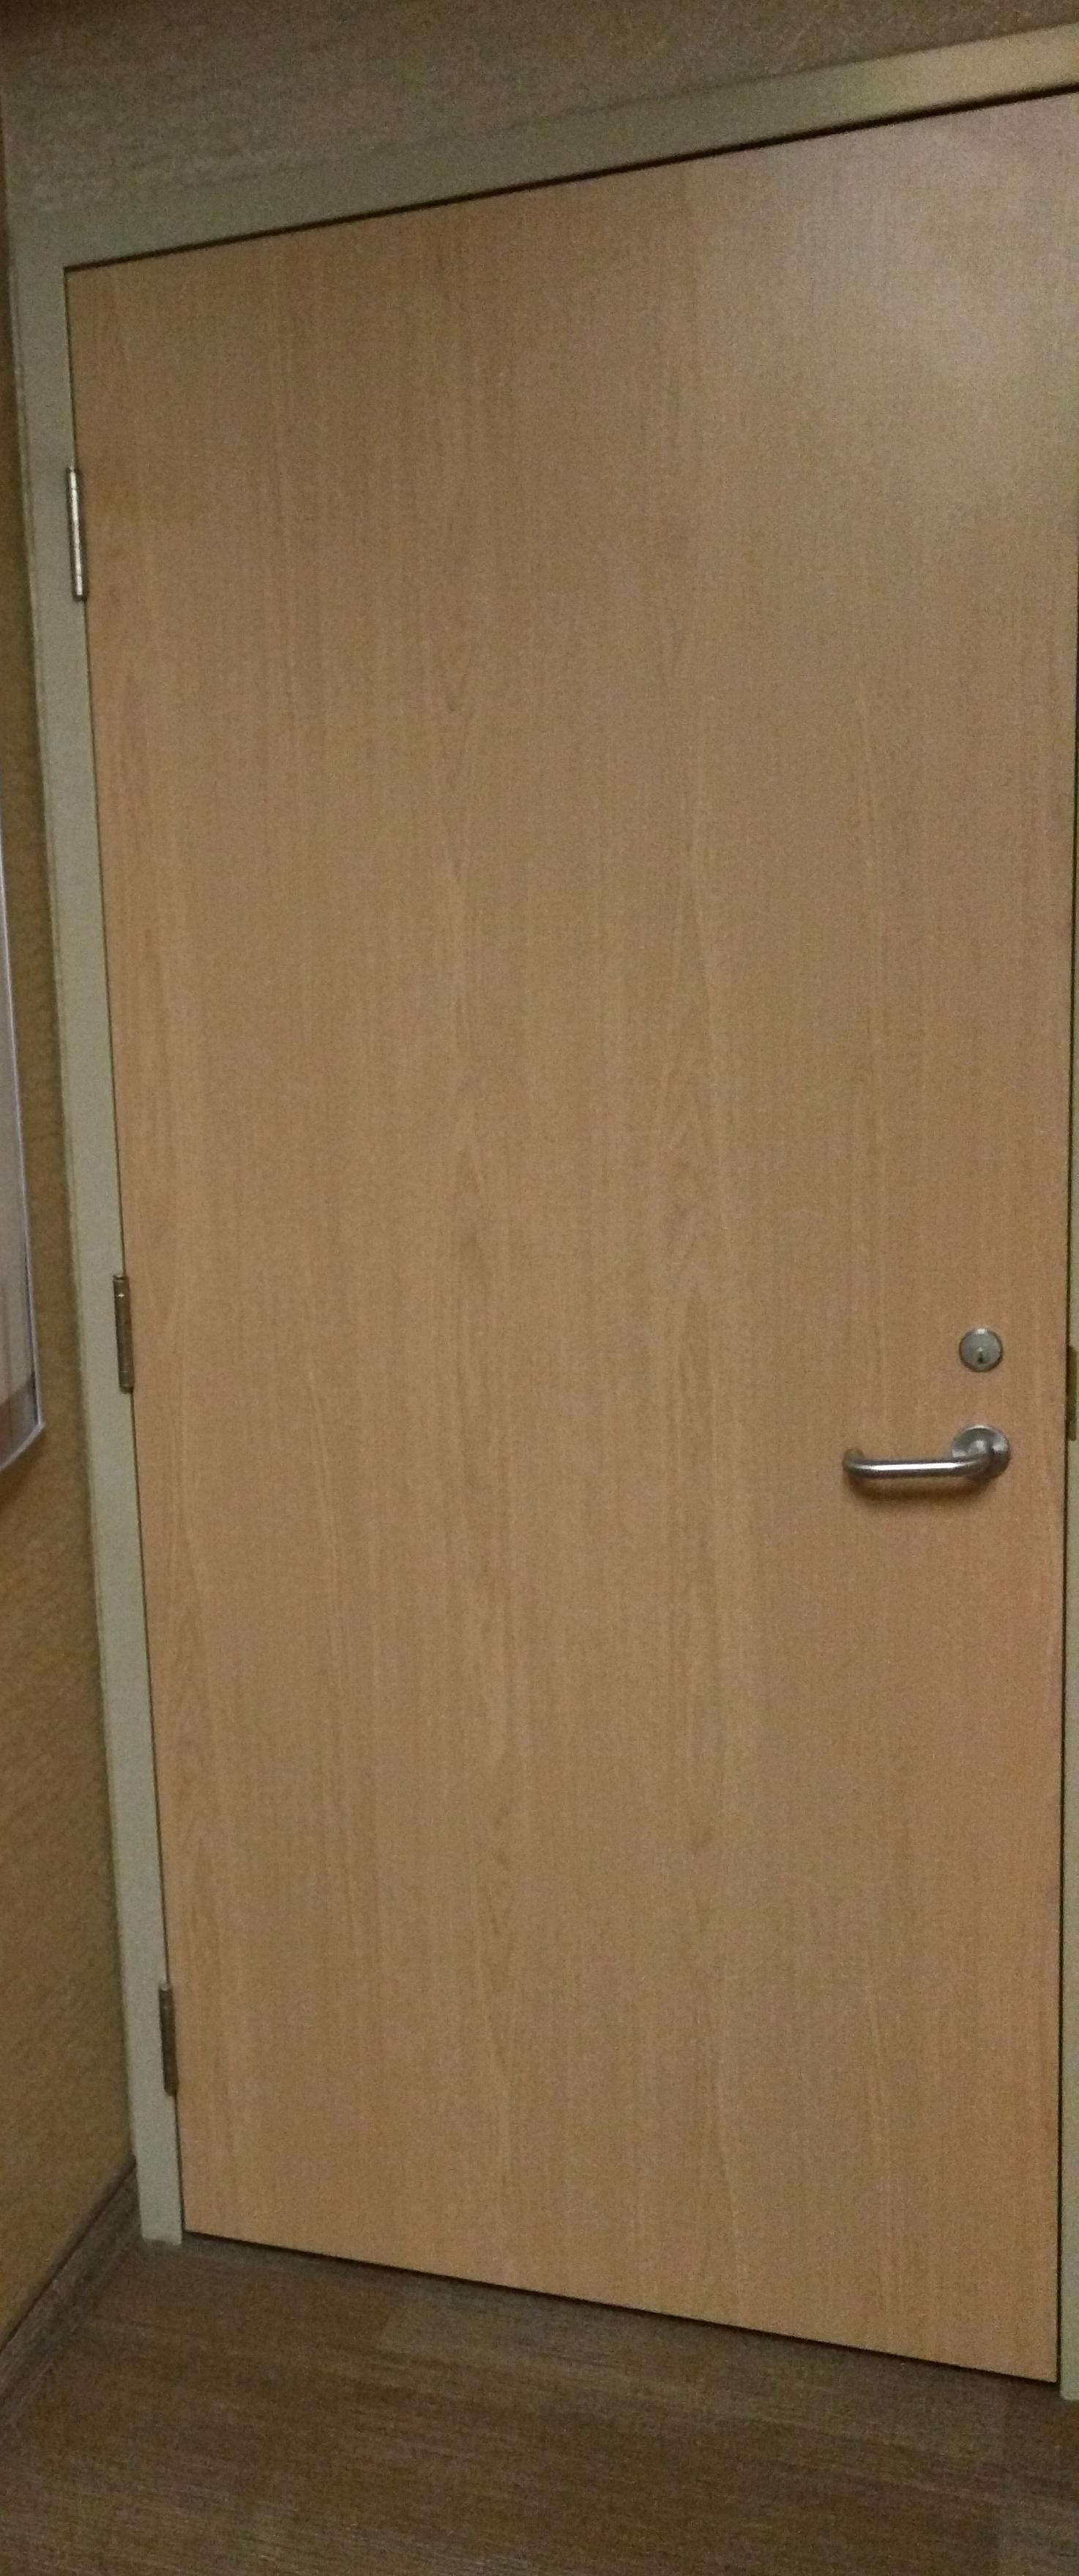door: (46, 166, 1079, 2328)
